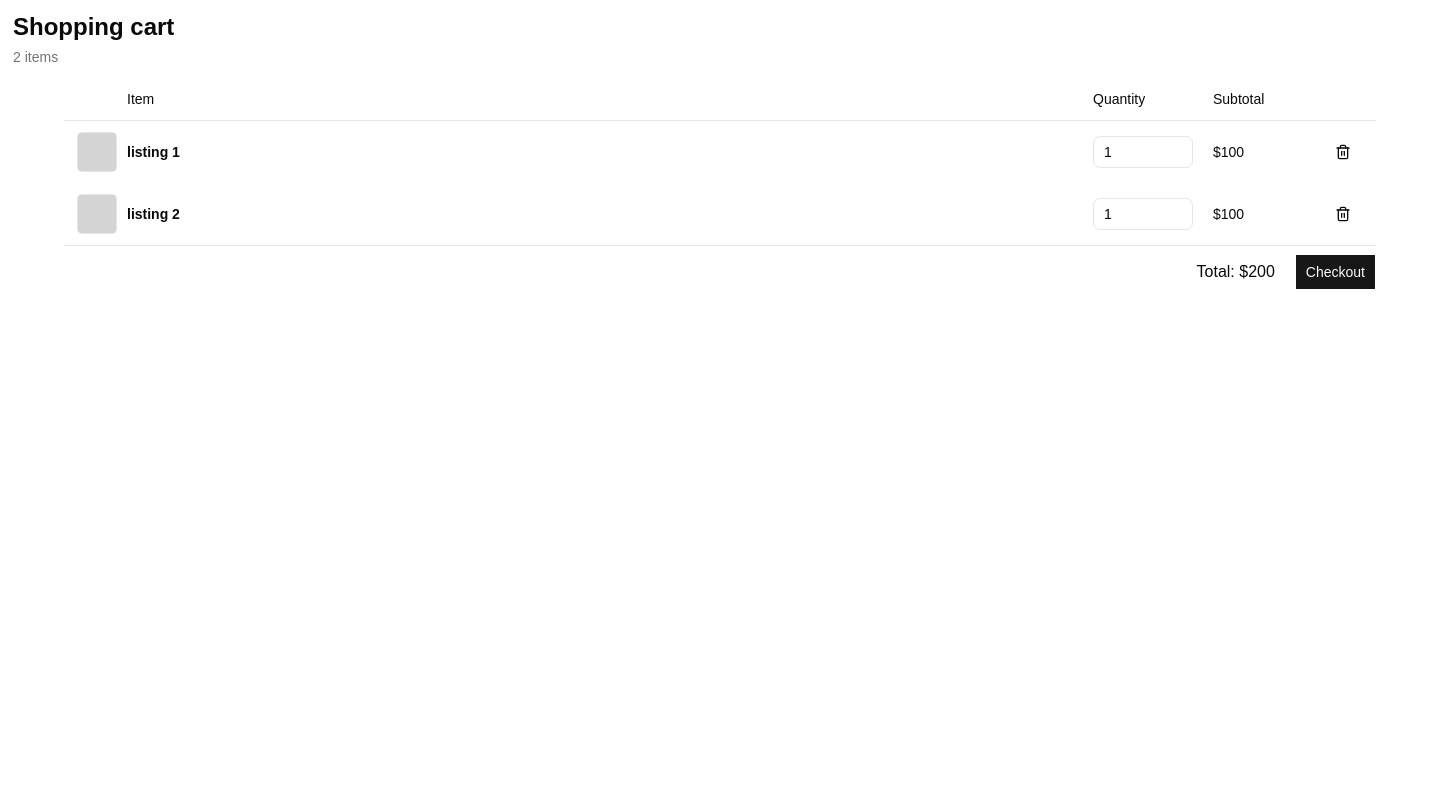
Test: cart › Remove from cart - item is removed from UI
The width and height of the screenshot is (1440, 810).
Click the button named "1 delete listing".
click(1343, 152)  # box top-left (1323, 132), bottom-right (1363, 172)
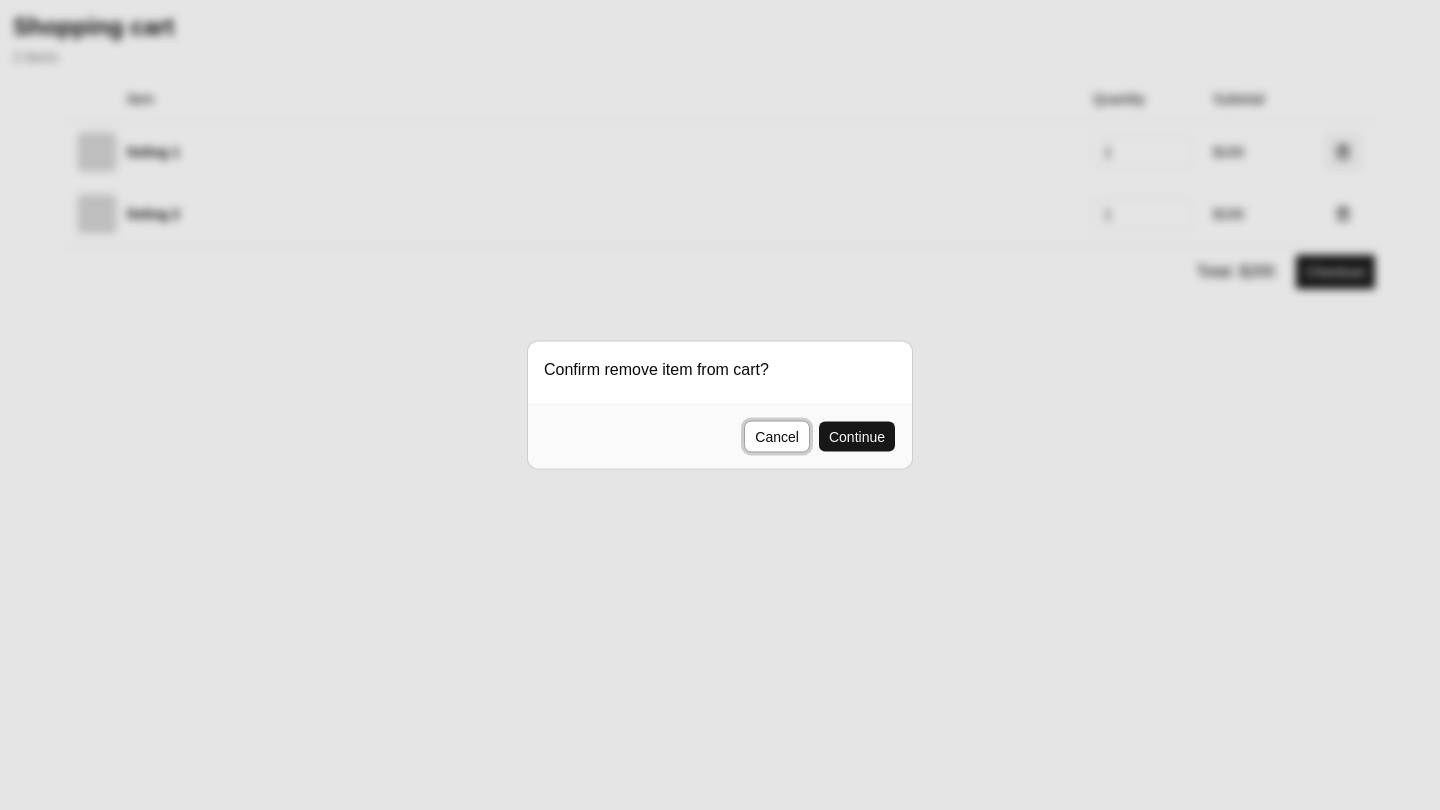
Click the button "Continue".
click(857, 436)  # box top-left (818, 420), bottom-right (896, 452)
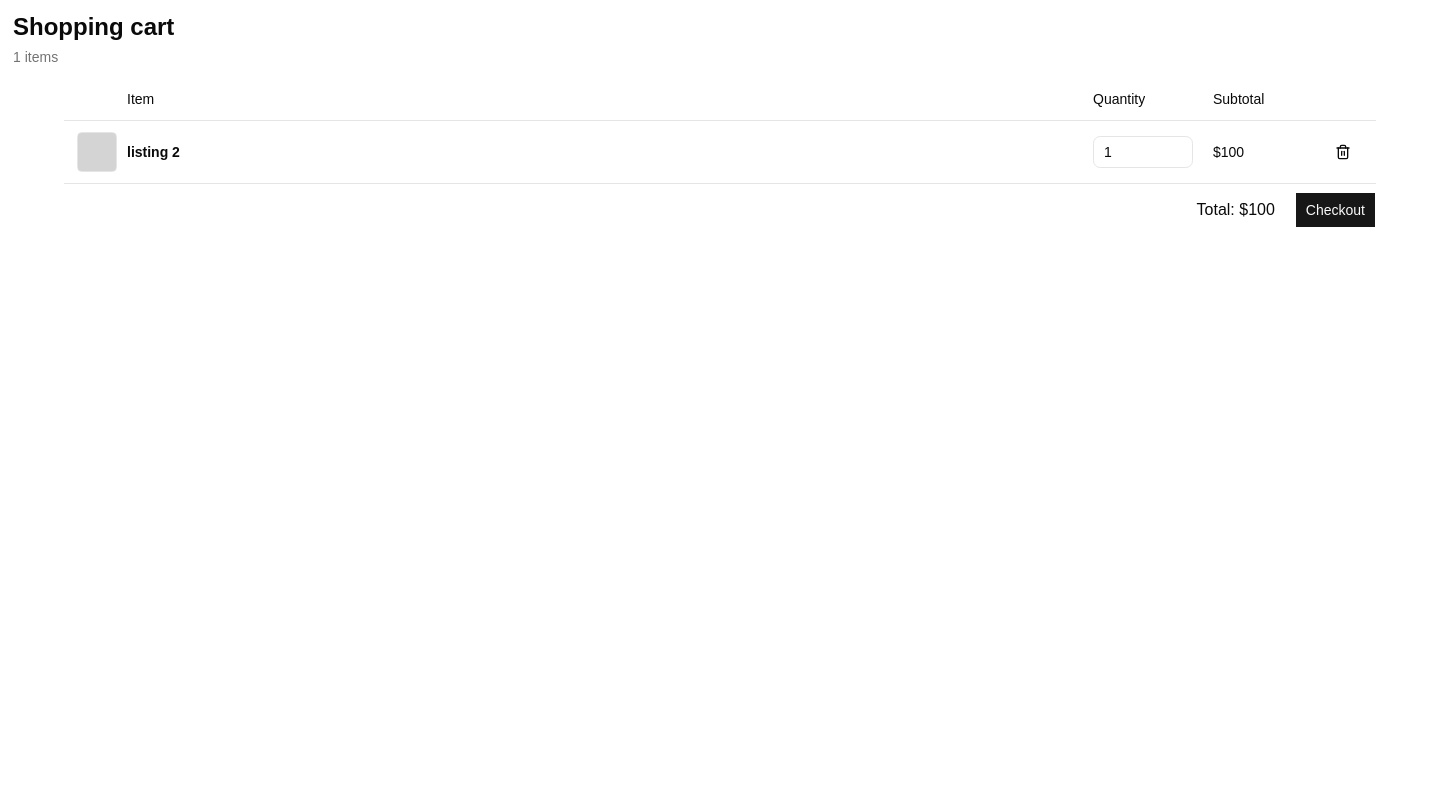
Expected: the text "listing 1" is gone
